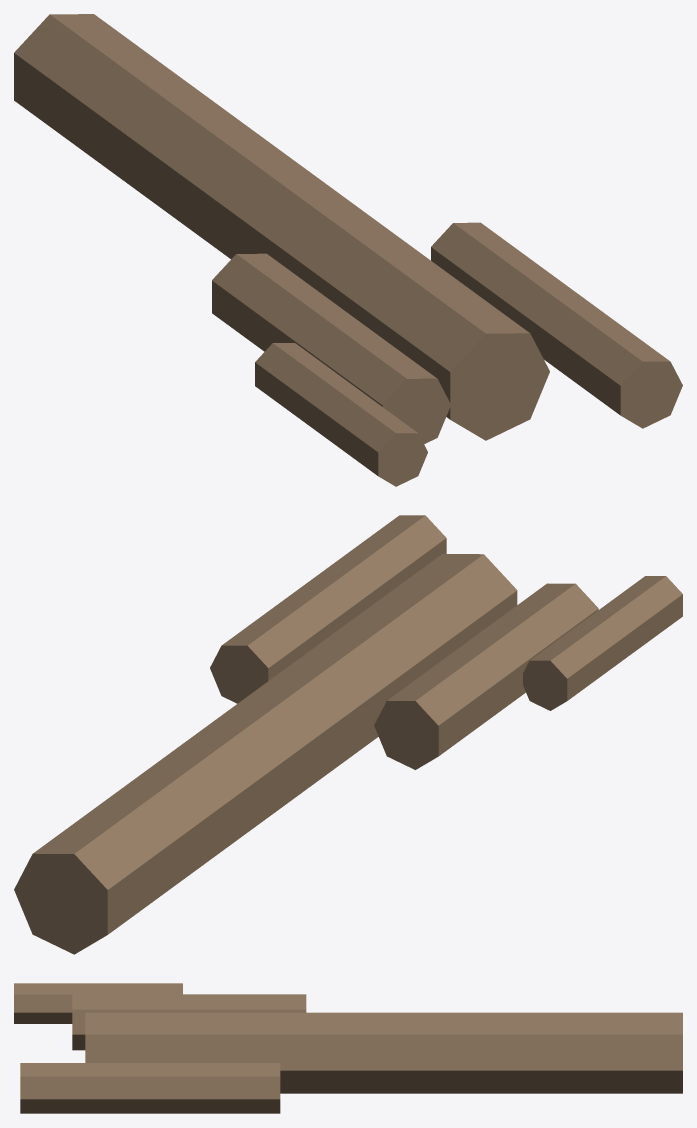
The model's file is dead_tree.glb.
The picture shows the model from 3 angles, top to bottom: view 1: azimuth 30°, elevation 25°; view 2: azimuth 150°, elevation 25°; view 3: azimuth 270°, elevation 25°; orthographic projection. The views are drawn at different scales.
Parts seen in each view (by area): view 1: dead_tree_0, dead_tree_2, dead_tree_1, dead_tree_3; view 2: dead_tree_0, dead_tree_1, dead_tree_2, dead_tree_3; view 3: dead_tree_0, dead_tree_2, dead_tree_1, dead_tree_3.
Part boxes in pixels (x1,y1,x2,y2): dead_tree_0: (14,14,549,440); dead_tree_2: (431,222,682,428); dead_tree_1: (212,253,450,444); dead_tree_3: (255,343,427,486); dead_tree_0: (14,554,517,954); dead_tree_1: (374,583,598,769); dead_tree_2: (210,515,446,703); dead_tree_3: (523,576,682,710); dead_tree_0: (85,1012,682,1093); dead_tree_2: (20,1063,280,1113); dead_tree_1: (72,994,306,1050); dead_tree_3: (14,983,182,1023).
Bounding box in the file's own units: 0.9421 × 0.312 × 2.58.
